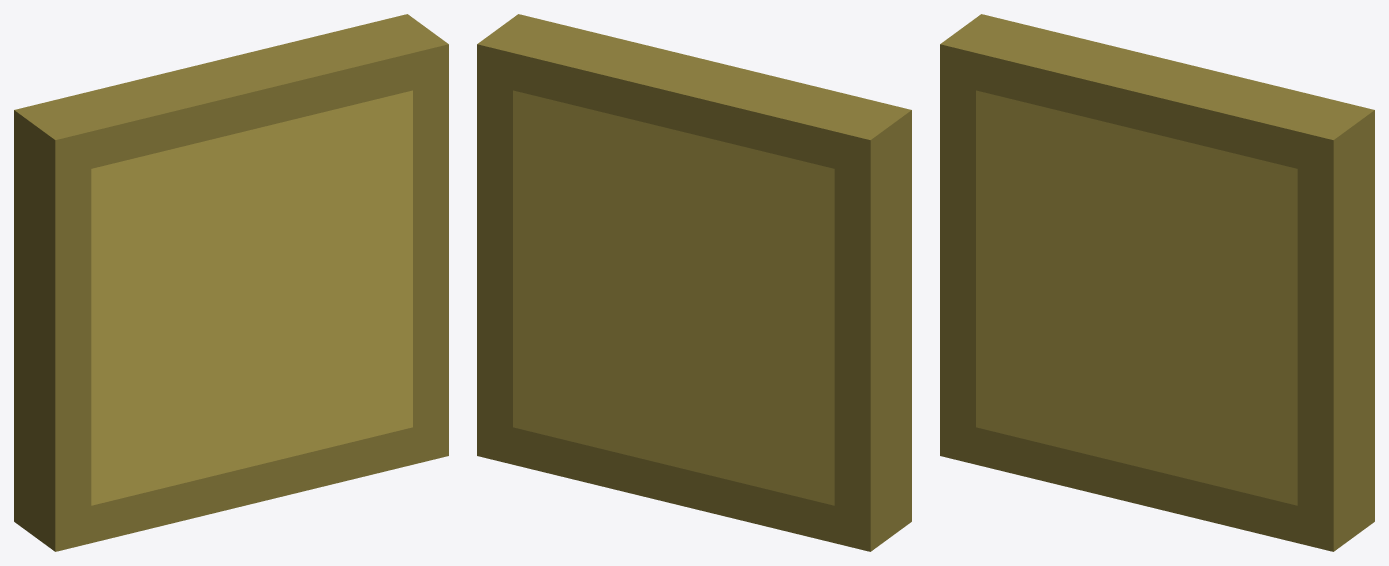
Rendered from toldo_puesto_mercado_01.glb.
3 renders of one model, left to right at view 1: azimuth 30°, elevation 25°; view 2: azimuth 150°, elevation 25°; view 3: azimuth 330°, elevation 25°, orthographic.
Parts seen in each view (by area): view 1: toldo_puesto_mercado; view 2: toldo_puesto_mercado; view 3: toldo_puesto_mercado.
Part boxes in pixels (left/top/right/bottom): toldo_puesto_mercado: left=14, top=14, right=448, bottom=551; toldo_puesto_mercado: left=477, top=14, right=911, bottom=551; toldo_puesto_mercado: left=940, top=14, right=1374, bottom=551.
Size of the model in its own units: 1 by 1 by 0.1818.
